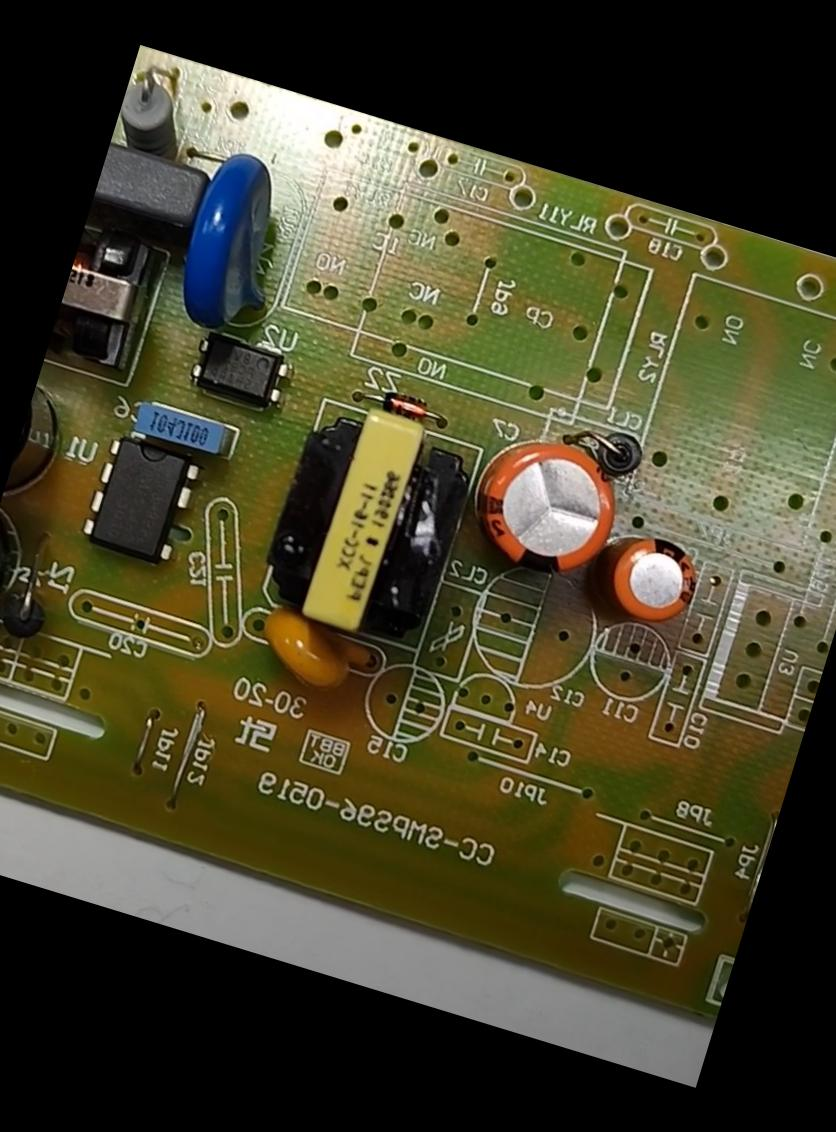Cap1: (450, 406, 650, 612)
Cap2: (574, 507, 722, 648)
Cap3: (0, 364, 93, 525)
Cap4: (0, 482, 61, 656)
MOSFET: (68, 414, 219, 586)
Mov: (156, 135, 320, 352)
Resistor: (109, 58, 214, 173)
Transformer: (242, 380, 498, 663), (43, 212, 181, 390)
